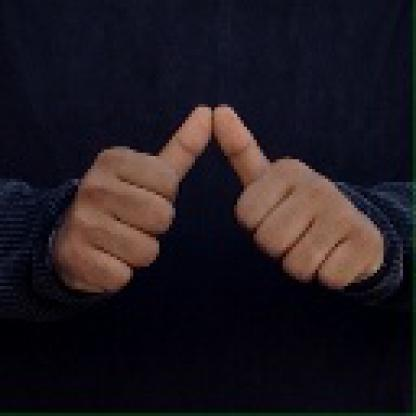A: (58, 94, 378, 294)
